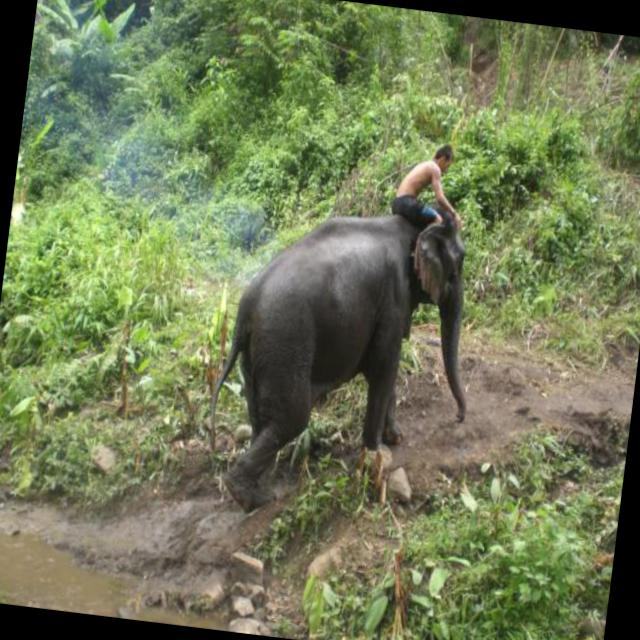elephant: (151, 176, 536, 517)
poacher: (352, 136, 476, 248)
